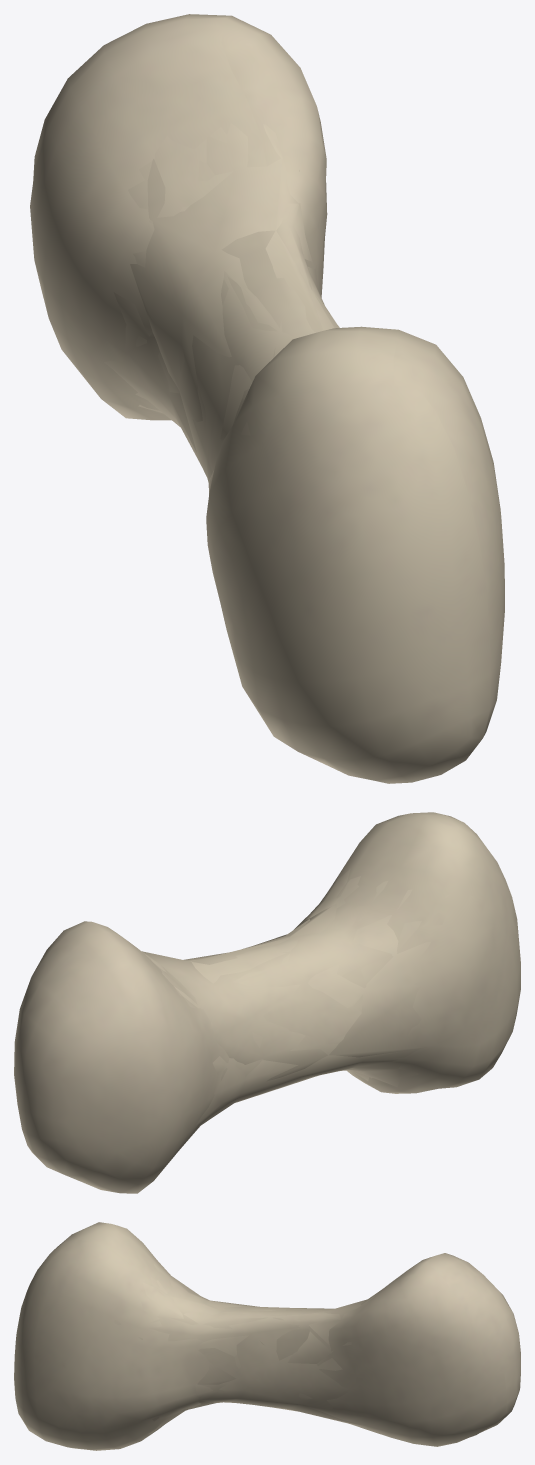
File: R carpi accessorium.fbx
The picture shows the model from 3 angles, top to bottom: view 1: azimuth 30°, elevation 25°; view 2: azimuth 150°, elevation 25°; view 3: azimuth 270°, elevation 25°; orthographic projection. The views are drawn at different scales.
Visible parts, largest first — view 1: R carpi accessorium high, R carpi accessorium low, R carpi accessorium; view 2: R carpi accessorium high, R carpi accessorium low, R carpi accessorium; view 3: R carpi accessorium high, R carpi accessorium, R carpi accessorium low.
Part boxes in pixels (x1,y1,x2,y2): R carpi accessorium high: (30, 14, 504, 783); R carpi accessorium low: (130, 123, 339, 494); R carpi accessorium: (104, 124, 335, 482); R carpi accessorium high: (14, 812, 520, 1193); R carpi accessorium low: (142, 884, 475, 1081); R carpi accessorium: (146, 868, 445, 1130); R carpi accessorium high: (14, 1222, 520, 1450); R carpi accessorium: (114, 1256, 489, 1434); R carpi accessorium low: (156, 1275, 380, 1409).
Size of the model in its own units: 1.3 by 1.46 by 2.99.
